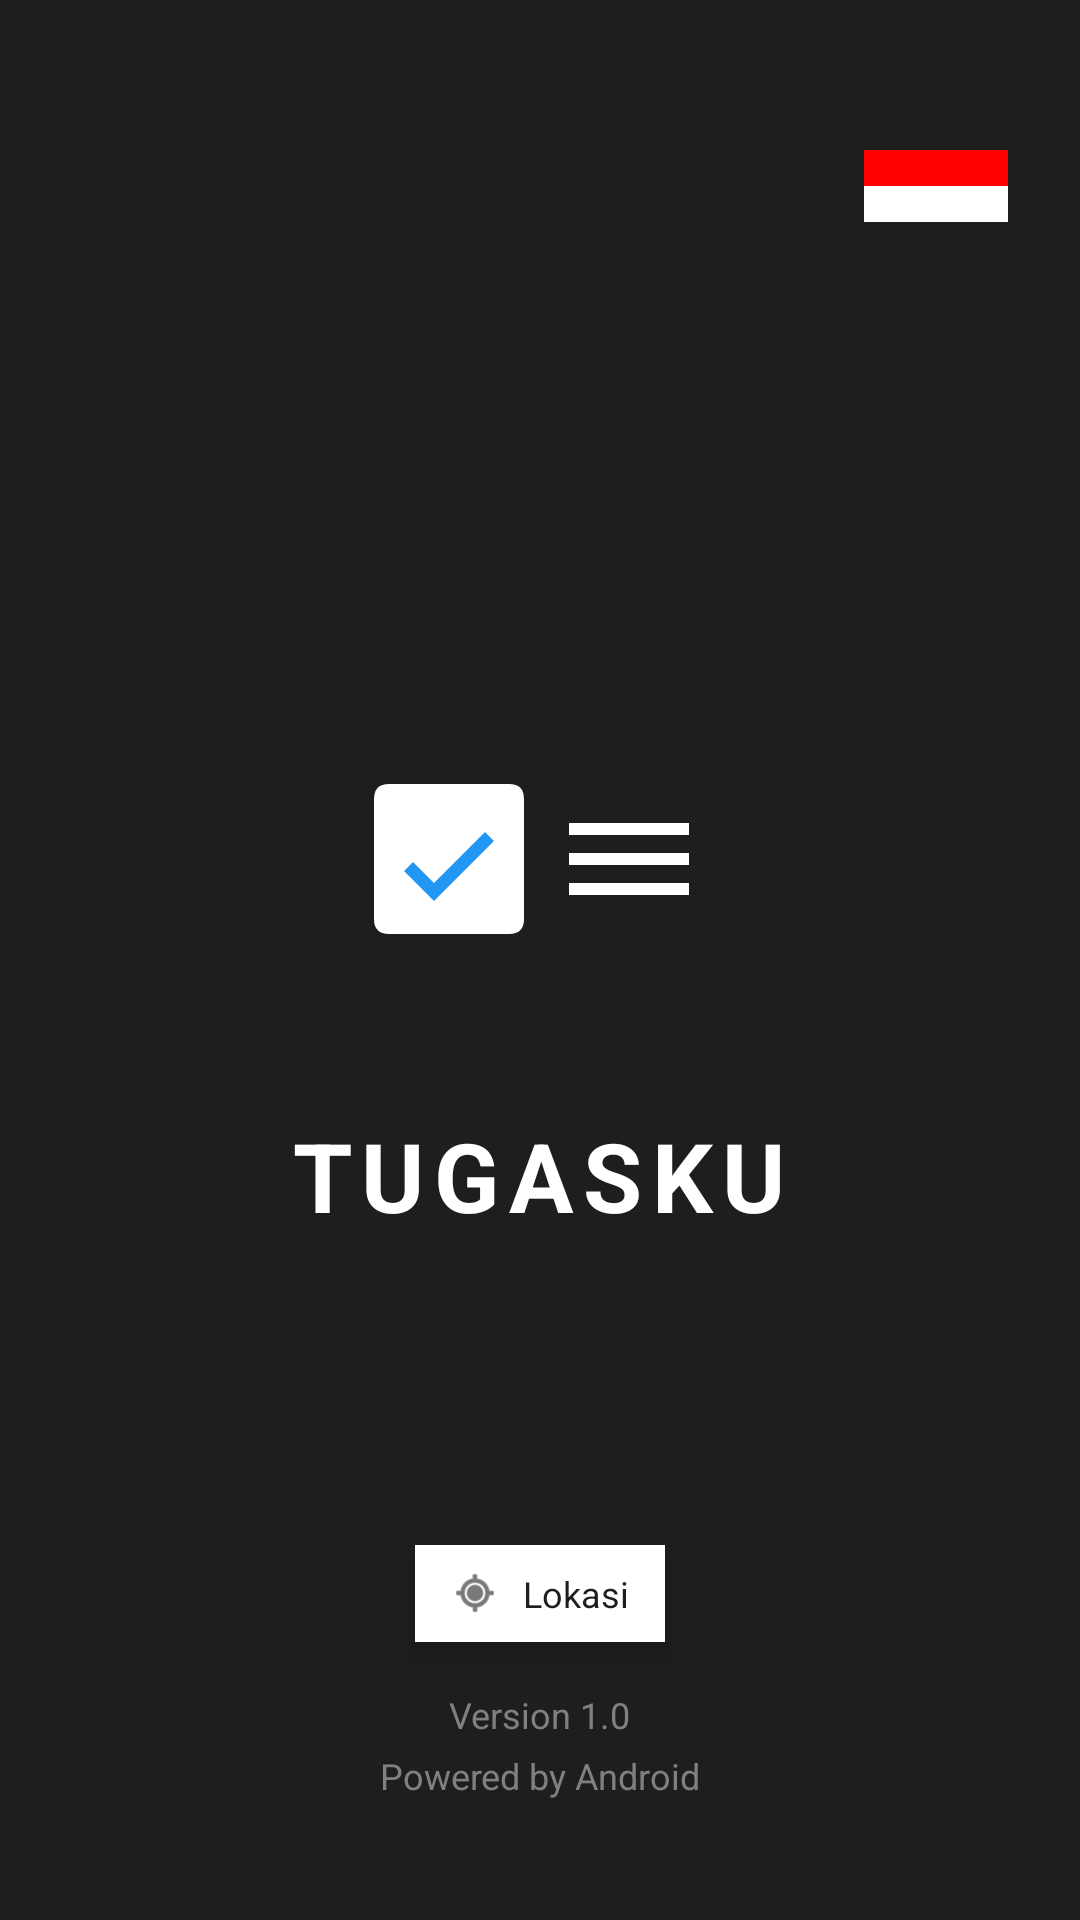

Named icons in this screenshot (1080 × 1920) and their bounding boxes, (x1, y1, x2, y2):
Bendera: (864, 150, 1008, 222)
Location icon: (456, 1574, 494, 1612)
